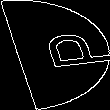P_W: (8, 32, 102, 78)
